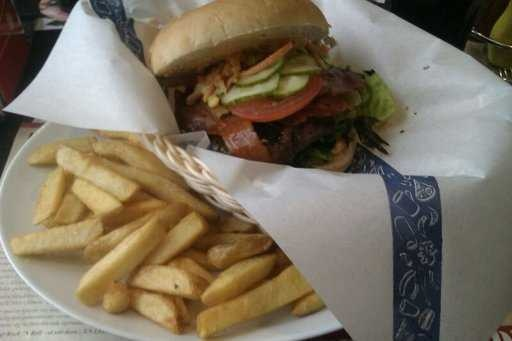hamburger: (141, 3, 388, 171)
